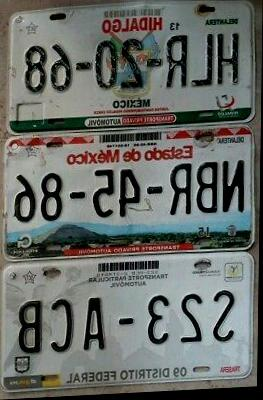License_Plate: (0, 254, 259, 396), (3, 124, 261, 265), (6, 1, 258, 135)
